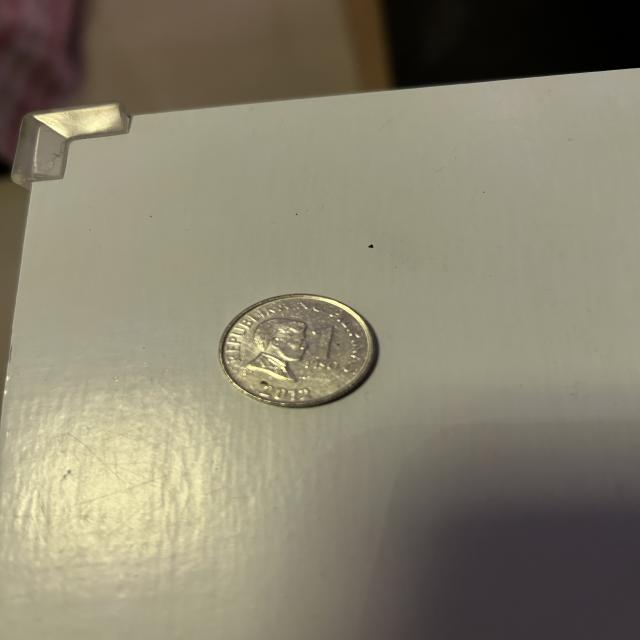1_Old_Front: (300, 322, 347, 375)
